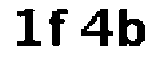1: (13, 6, 42, 49)
4: (80, 3, 114, 49)
b: (117, 5, 149, 48)
f: (48, 5, 70, 47)
